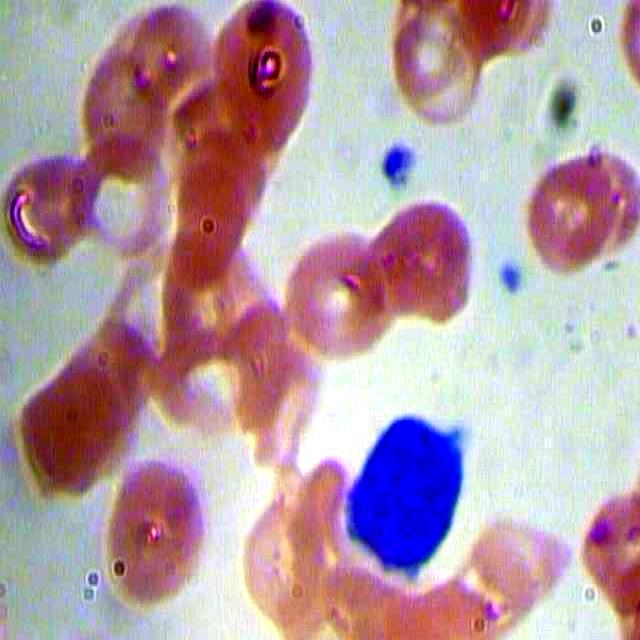Platelets: (375, 137, 422, 195), (483, 245, 530, 303)
RBC: (5, 349, 125, 502), (363, 188, 483, 340), (215, 292, 335, 444), (97, 446, 217, 598), (50, 306, 170, 458), (168, 112, 288, 264), (221, 482, 341, 634), (274, 215, 394, 366), (209, 1, 318, 148), (521, 145, 625, 272), (72, 131, 176, 257), (1, 136, 104, 263), (568, 462, 639, 614), (117, 1, 207, 116), (378, 2, 475, 102), (581, 133, 640, 259)
WBC: (330, 403, 494, 584)
